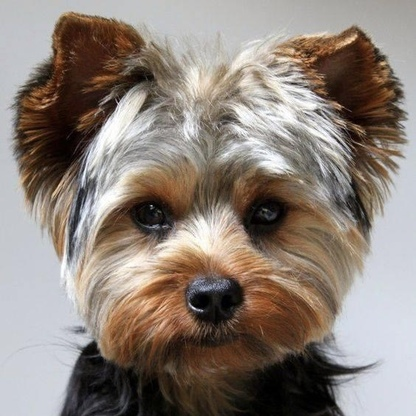yorkshire: (16, 10, 411, 416)
